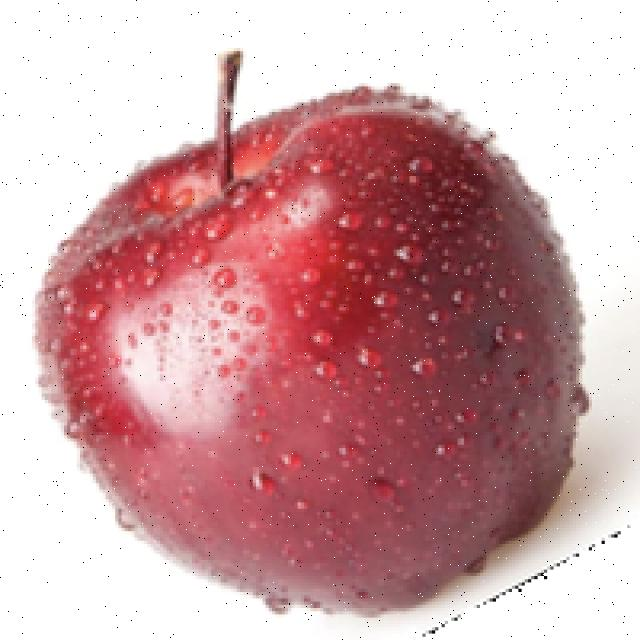apple: (29, 80, 637, 637)
